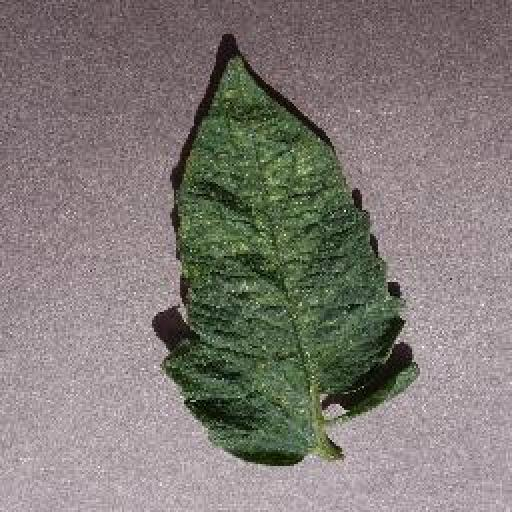disease_tomato: (166, 52, 418, 468)
